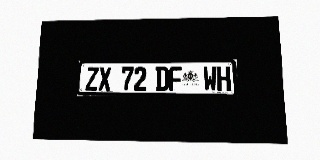2: (134, 67, 147, 91)
7: (121, 67, 134, 91)
D: (156, 67, 169, 91)
F: (169, 67, 182, 91)
H: (217, 66, 231, 91)
W: (203, 66, 217, 91)
X: (98, 67, 111, 91)
Z: (85, 67, 99, 91)
